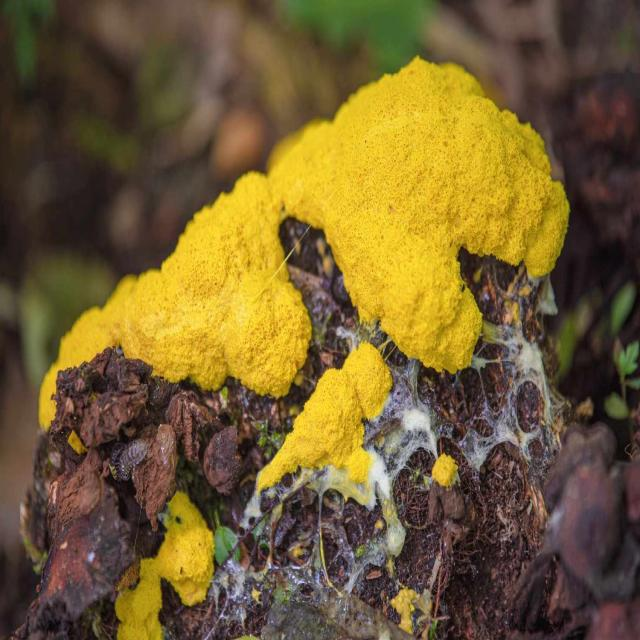Dog_vomit_slime_mold: (14, 63, 570, 626)
